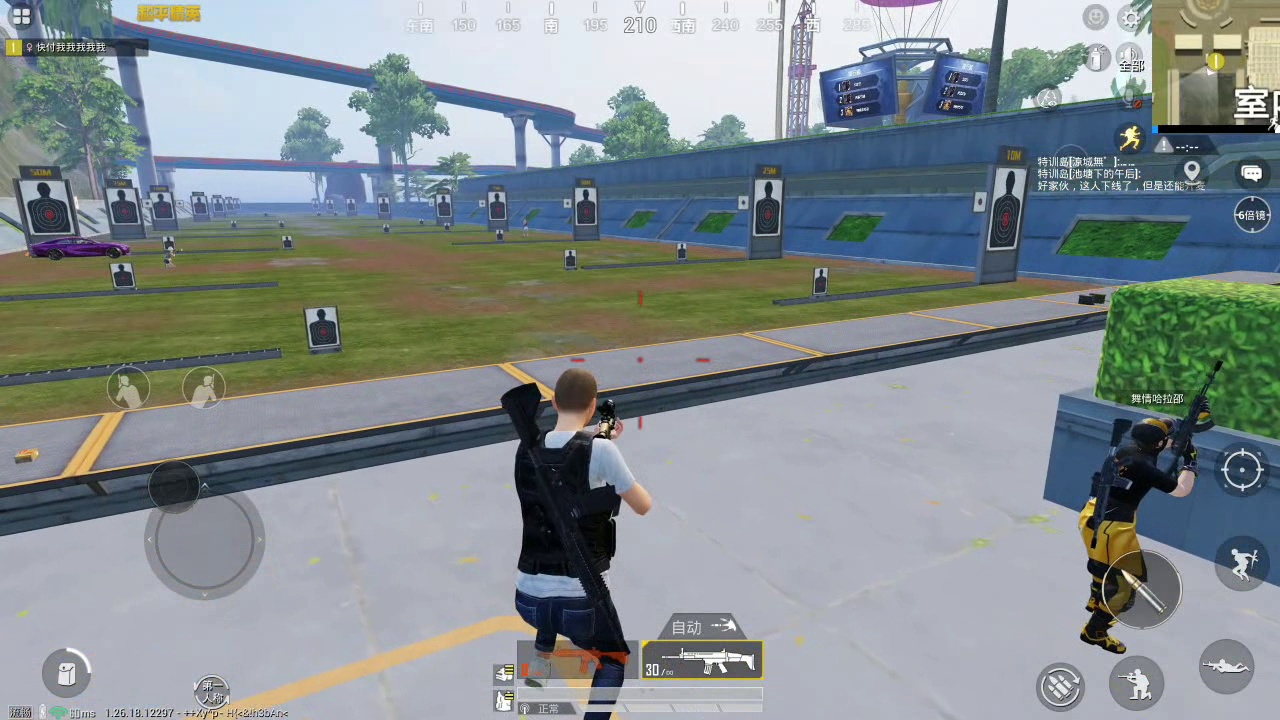enemy: (1072, 411, 1194, 652), (158, 245, 176, 267)
